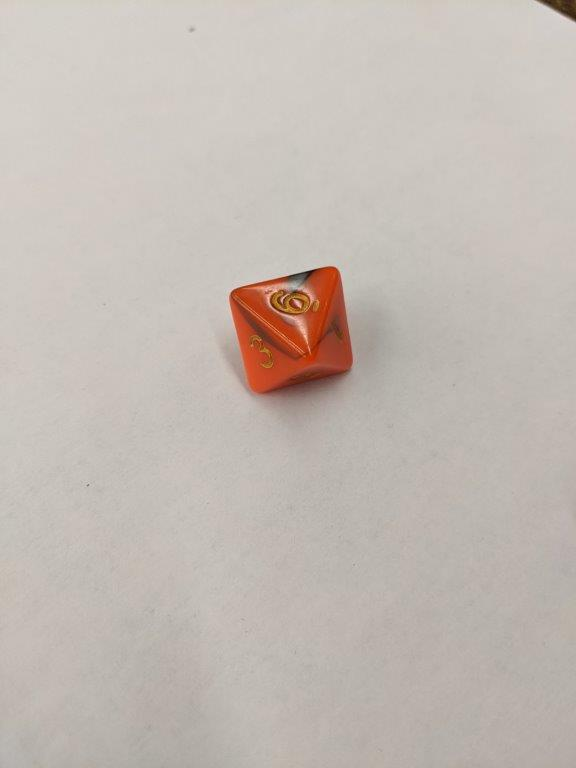d8-6: (228, 264, 355, 398)
